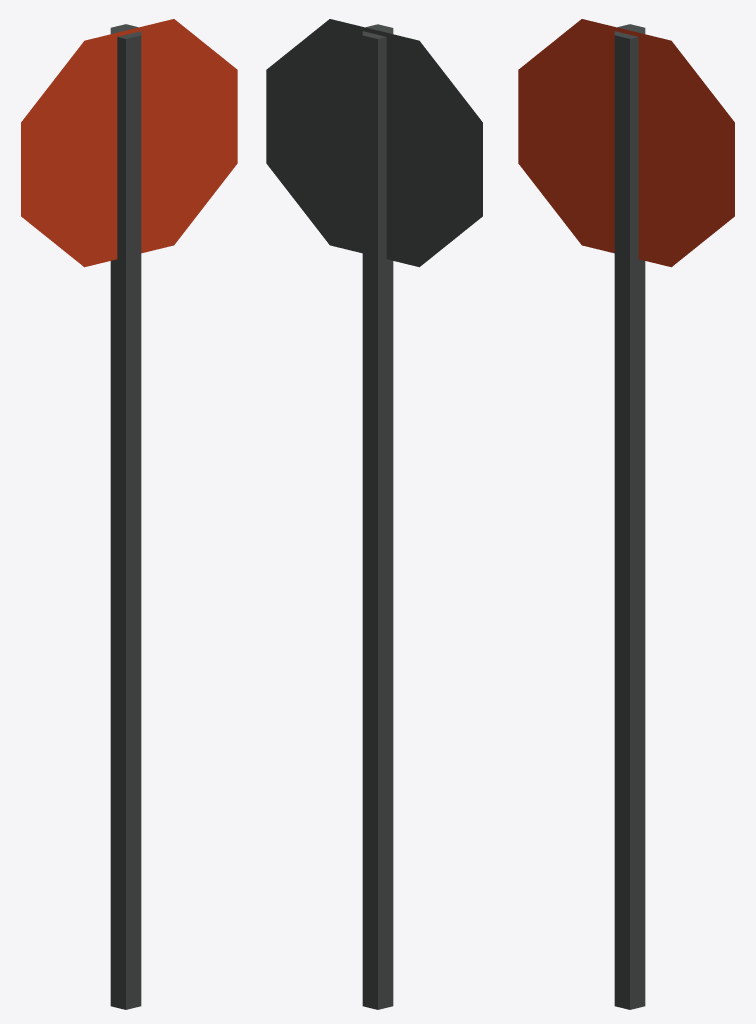
Rendered from stop_sign.glb.
3 views of the same model, side by side, from view 1: azimuth 30°, elevation 25°; view 2: azimuth 150°, elevation 25°; view 3: azimuth 330°, elevation 25° (orthographic).
Parts seen in each view (by area): view 1: stop_sign; view 2: stop_sign; view 3: stop_sign.
Boxes of the visible parts, <box> form: stop_sign: <box>21,19,237,1009</box>; stop_sign: <box>266,19,482,1009</box>; stop_sign: <box>518,19,734,1009</box>.
Size of the model in its own units: 0.6652 by 2.86 by 0.0814.
